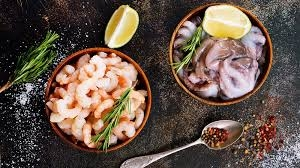kitchen_waste: (2, 29, 60, 98), (95, 82, 135, 152), (201, 3, 255, 43), (102, 4, 145, 49), (217, 56, 260, 95), (174, 25, 204, 75), (252, 117, 282, 160), (69, 115, 97, 148), (73, 77, 98, 111), (55, 96, 88, 120), (173, 19, 198, 48), (54, 62, 82, 85), (84, 58, 111, 79), (203, 128, 230, 147), (94, 96, 113, 117)
metal: (117, 104, 246, 168)
